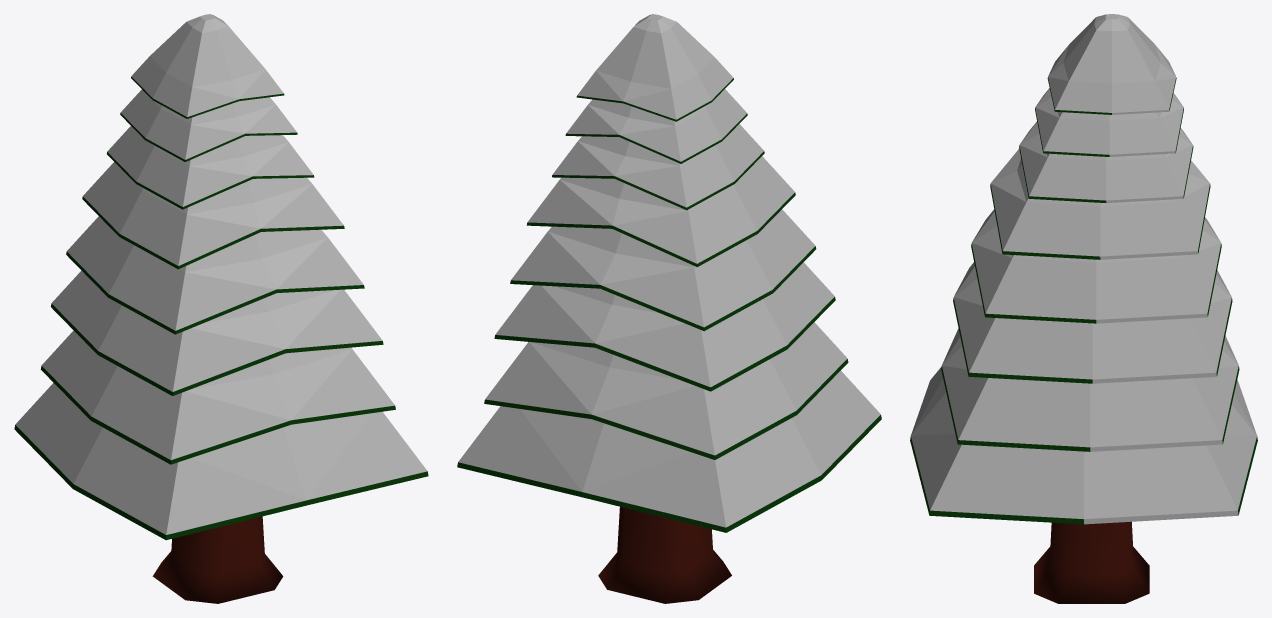
File: treeSmallSnow.obj
The picture shows the model from 3 angles, left to right: view 1: azimuth 30°, elevation 25°; view 2: azimuth 150°, elevation 25°; view 3: azimuth 270°, elevation 25°; orthographic projection. The views are drawn at different scales.
Parts seen in each view (by area): view 1: Cube.002_Cube.005; view 2: Cube.002_Cube.005; view 3: Cube.002_Cube.005.
Boxes of the visible parts, x1,y1,x2,y2 form: Cube.002_Cube.005: (14, 14, 428, 603); Cube.002_Cube.005: (457, 14, 881, 603); Cube.002_Cube.005: (910, 14, 1257, 603).
Size of the model in its own units: 4.52 by 8.02 by 4.5.
